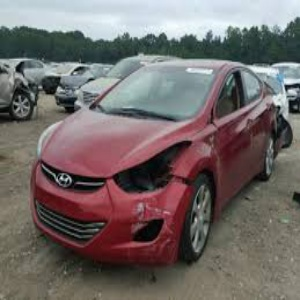bumper_scratch: (113, 197, 179, 265)
